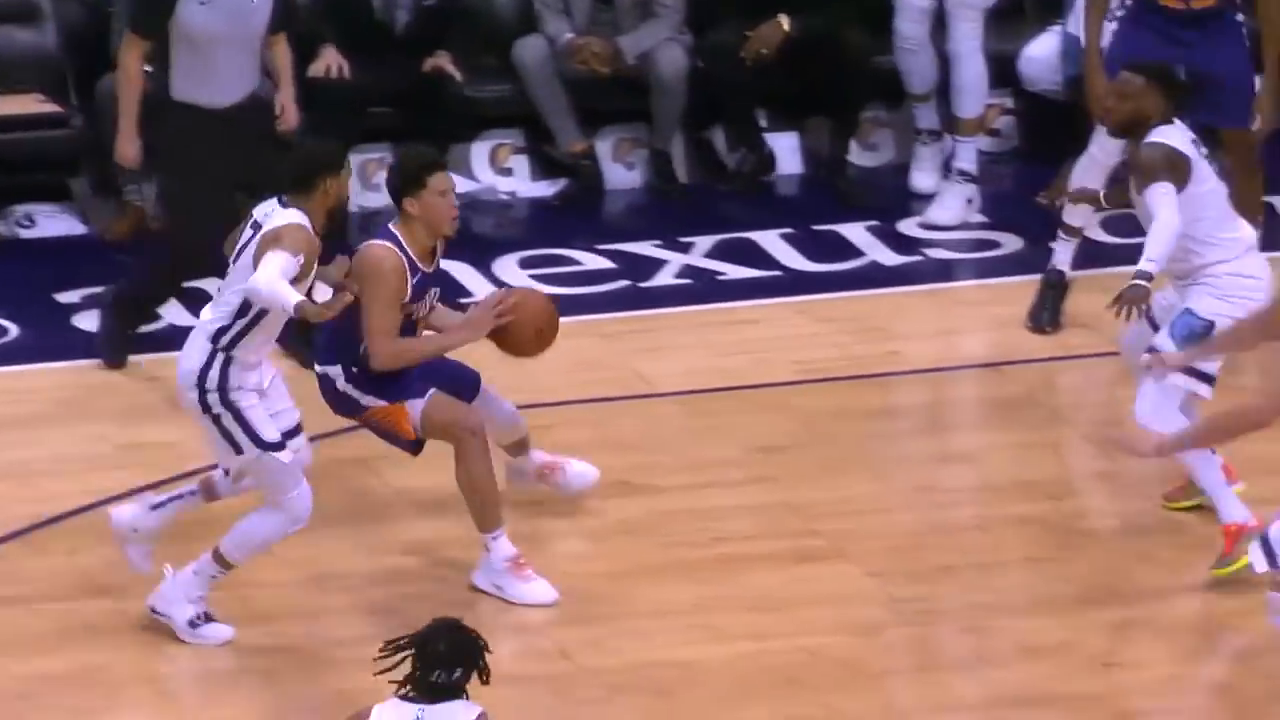ball: (492, 288, 560, 359)
